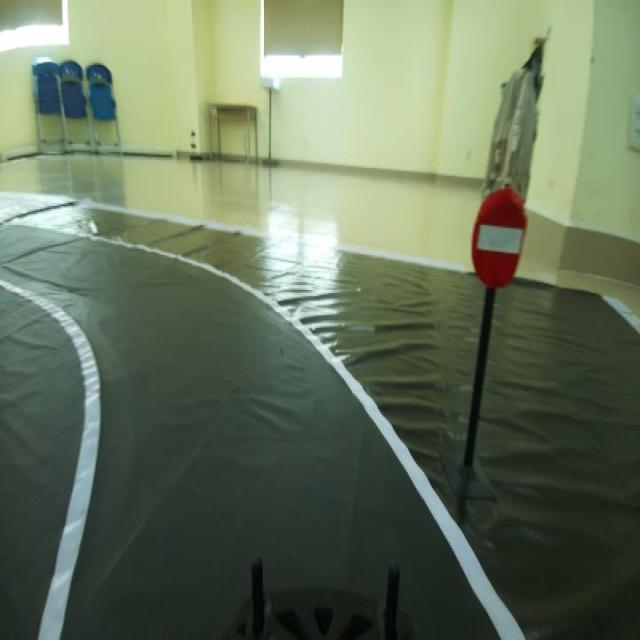no_entry: (468, 183, 530, 297)
